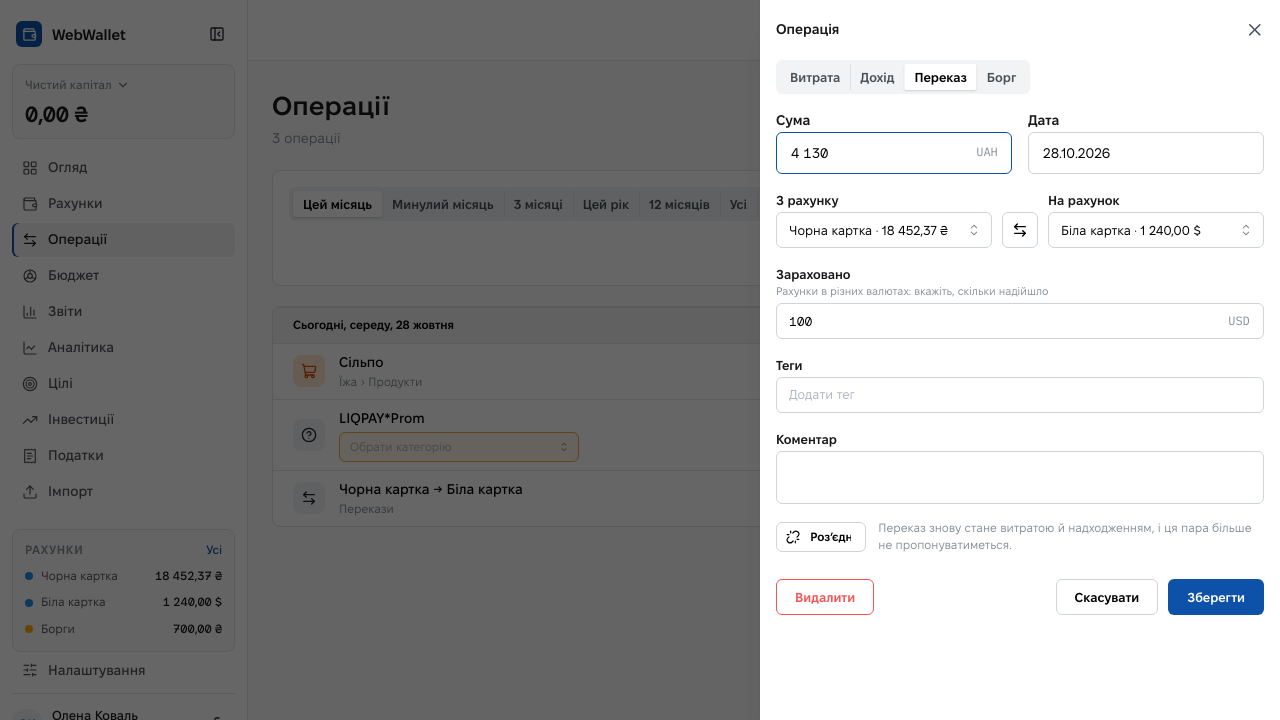
swaps the accounts of a transfer together with the amounts
The width and height of the screenshot is (1280, 720).
Expected: the field labelled "Зараховано" is shown, [776,303,1264,339]
Step 1. Click the button named "Поміняти рахунки місцями" → {"x": 1020, "y": 230}, box [1002,212,1038,248]
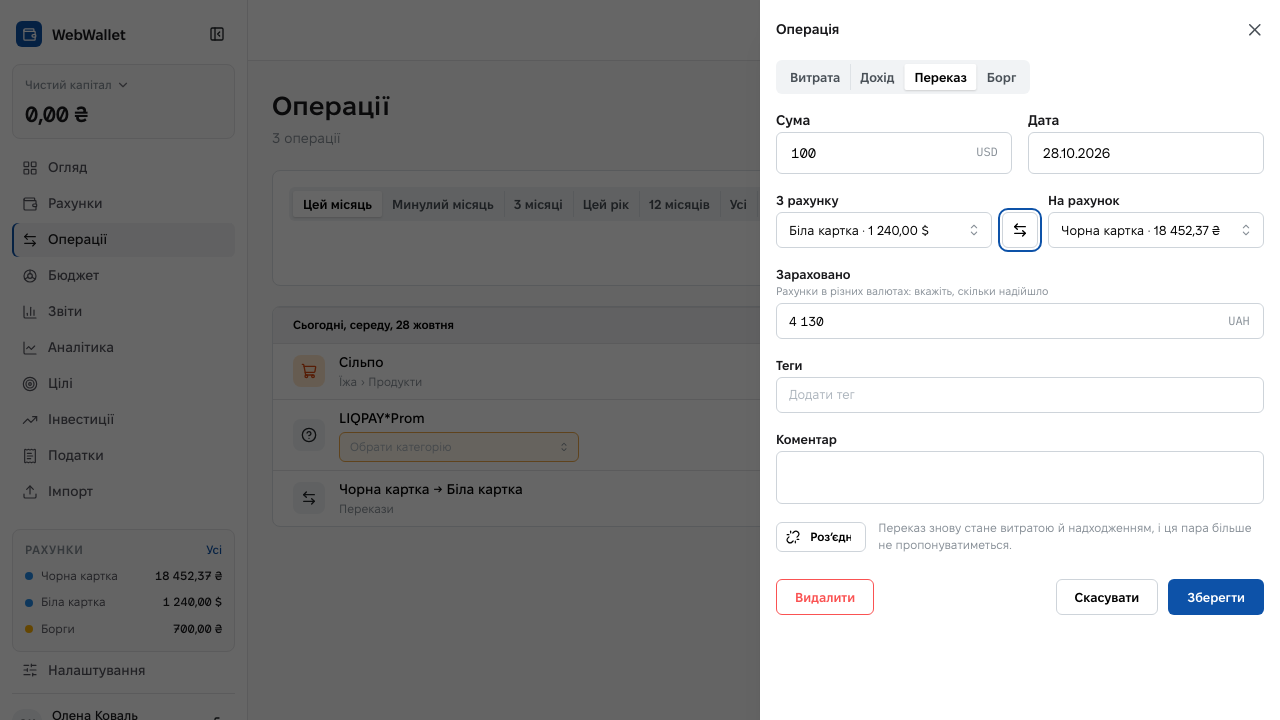
Expected: the field labelled "Сума" holds "100", [776,132,1012,174]
